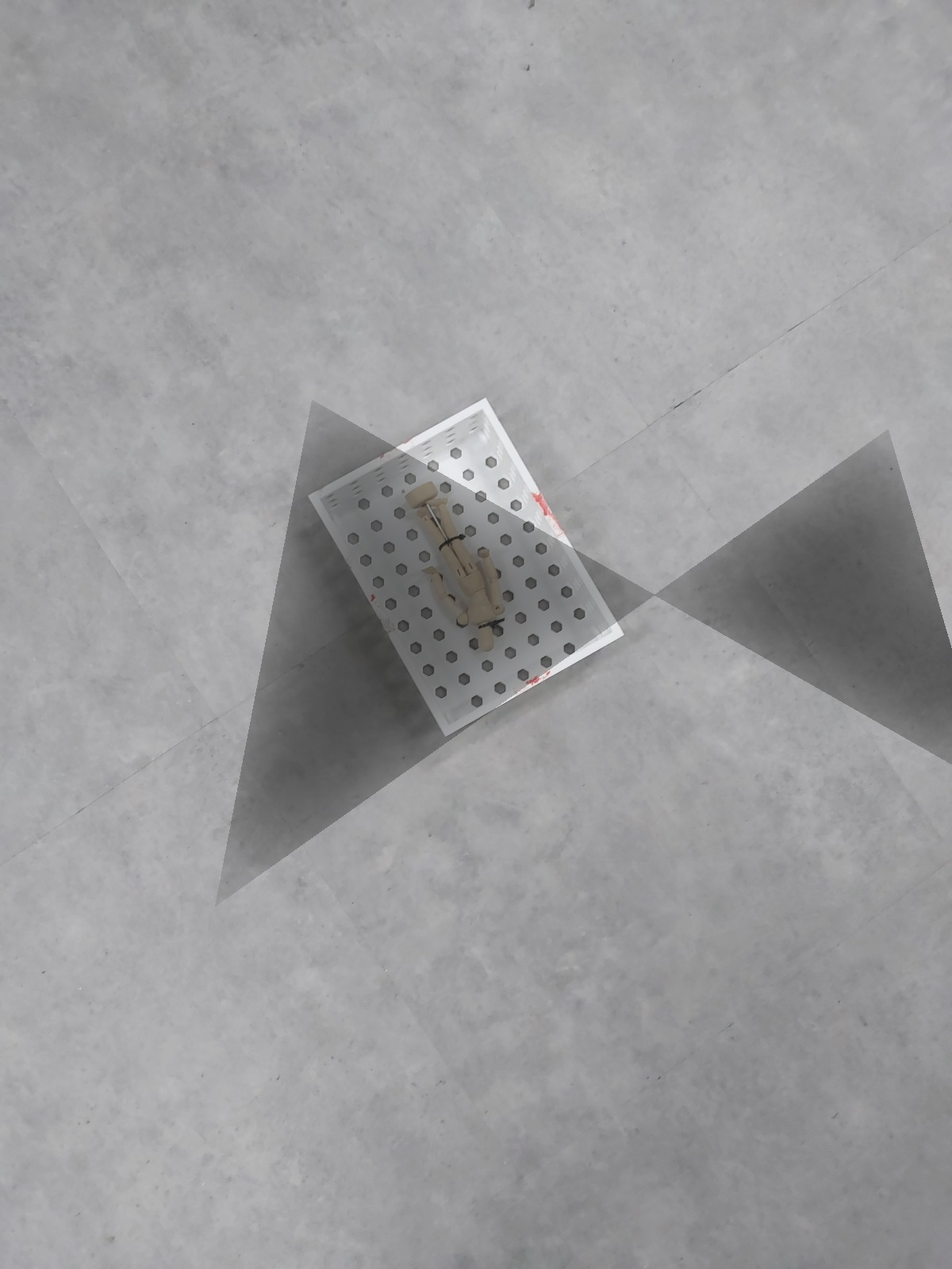basket: (303, 393, 629, 742)
mannequin: (400, 480, 508, 659)
